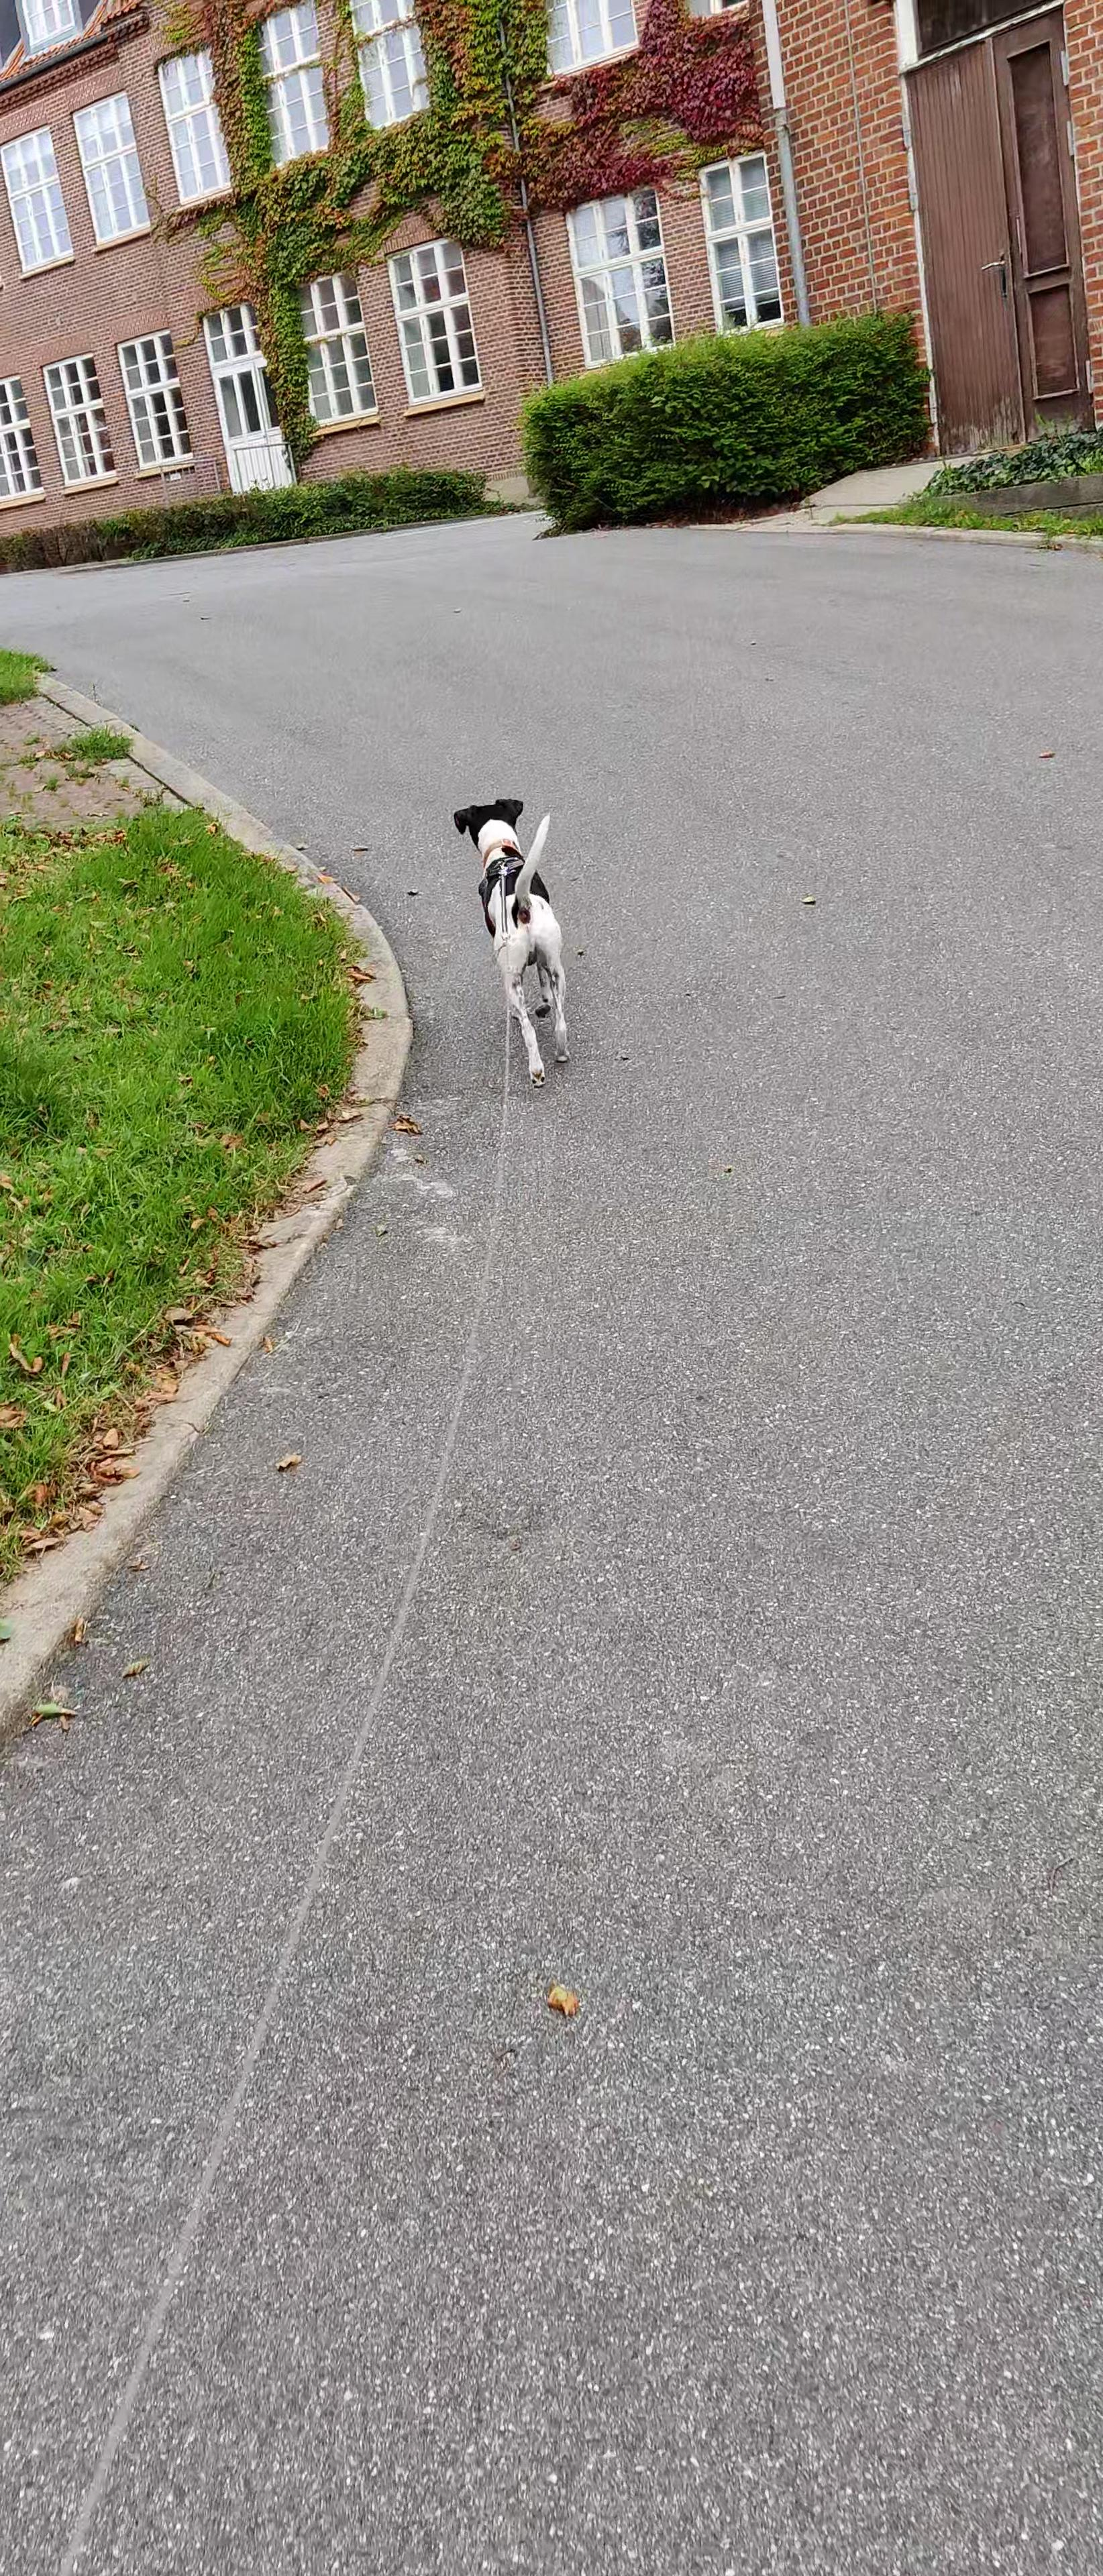Dog: (436, 775, 590, 1097)
